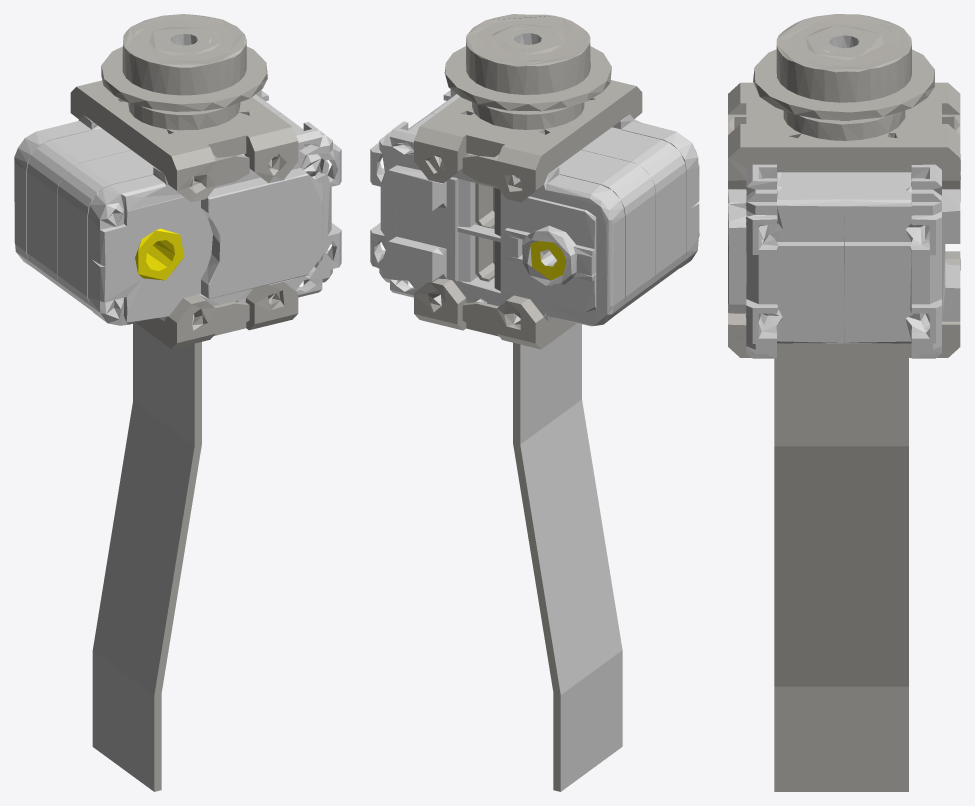
File: yaw.obj
3 views of the same model, side by side, from view 1: azimuth 30°, elevation 25°; view 2: azimuth 150°, elevation 25°; view 3: azimuth 270°, elevation 25° (orthographic). The views are drawn at different scales.
Parts seen in each view (by area): view 1: Object.1; view 2: Object.1; view 3: Object.1.
Part boxes in pixels (x1,y1,x2,y2): Object.1: (14,14,341,791); Object.1: (370,14,699,791); Object.1: (728,14,960,791).
Bounding box in the file's own units: 50 × 141 × 38.08.
